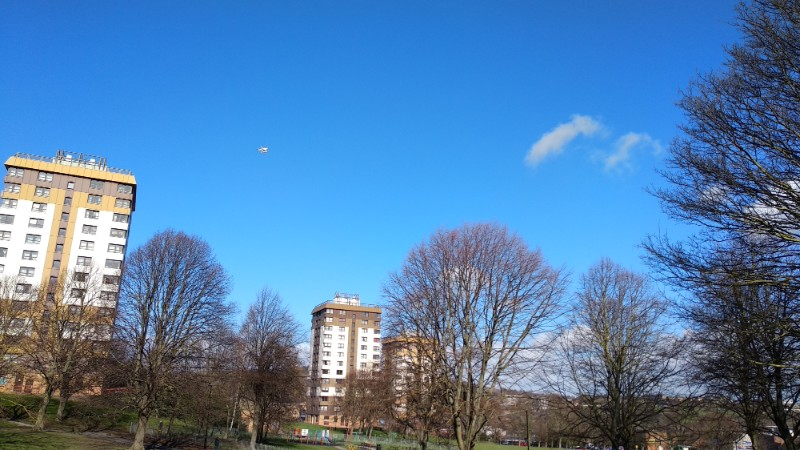drone: (256, 144, 270, 155)
